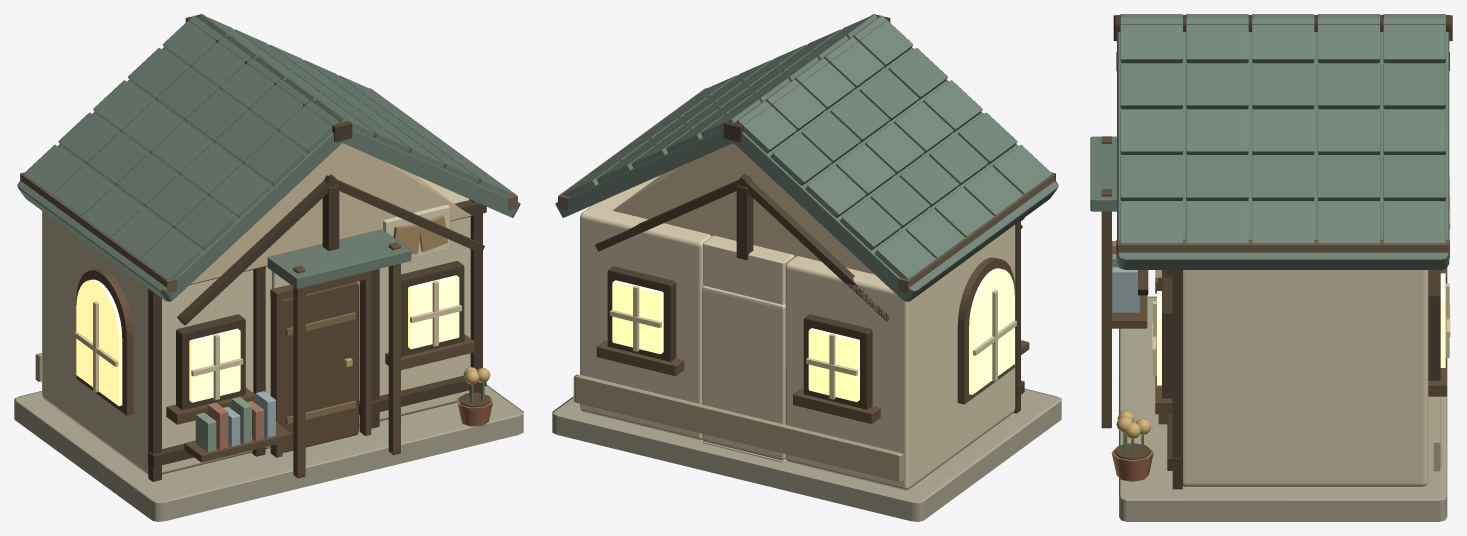
The model's file is library-0.glb.
3 renders of one model, left to right at view 1: azimuth 30°, elevation 25°; view 2: azimuth 150°, elevation 25°; view 3: azimuth 270°, elevation 25°, orthographic. The views are drawn at different scales.
Visible parts, largest first — view 1: library-0-0, door-hinge; view 2: library-0-0; view 3: library-0-0.
Part boxes in pixels (x1,y1,x2,y2): library-0-0: (14,14,523,521); door-hinge: (282,282,358,452); library-0-0: (552,14,1061,521); library-0-0: (1090,14,1452,521).
Bounding box in the file's own units: 2.8 × 2.58 × 2.1.
